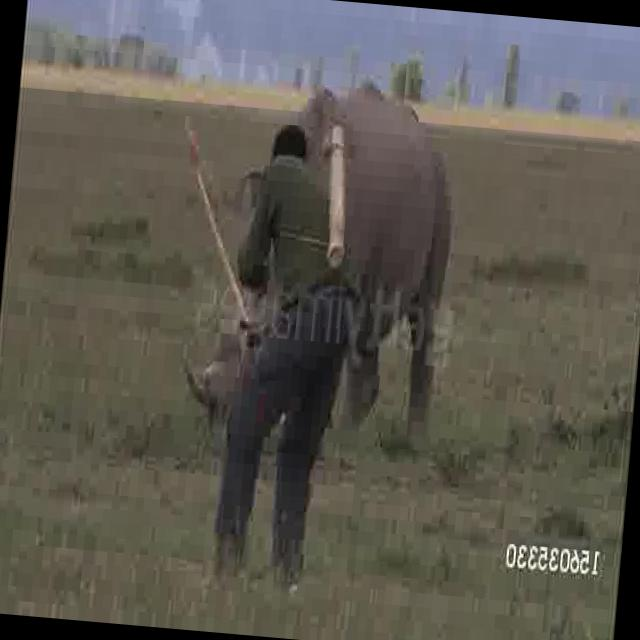elephant: (160, 86, 516, 413)
poacher: (185, 94, 398, 508)
weapon: (299, 102, 378, 346)
